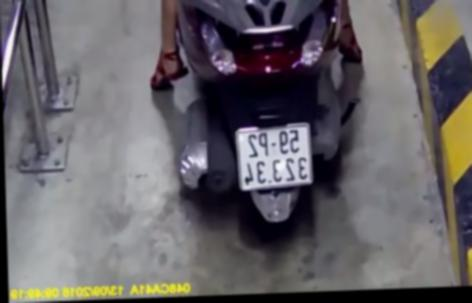License_Plate: (231, 117, 325, 193)
